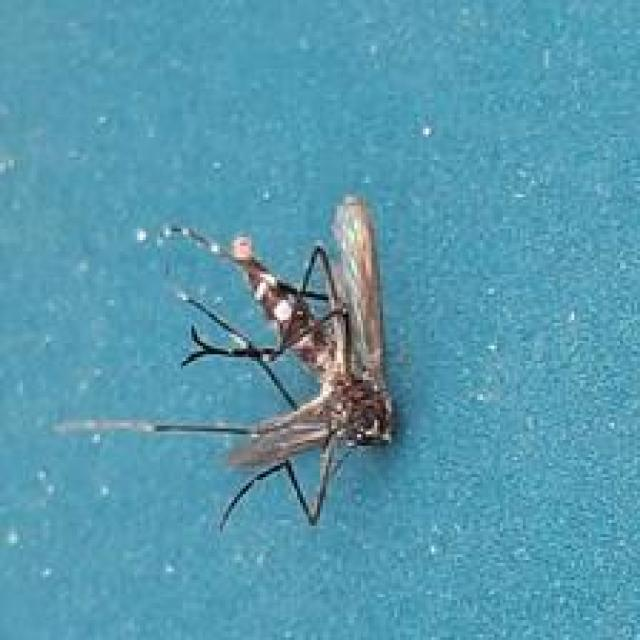Aedes albopictus: (53, 192, 398, 532)
